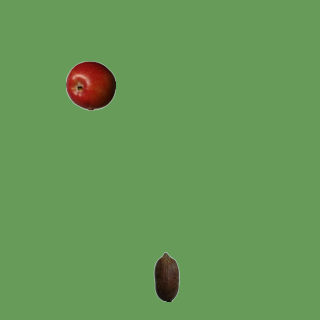Apple Braeburn: (65, 60, 115, 110)
Nut Pecan: (141, 251, 191, 301)
